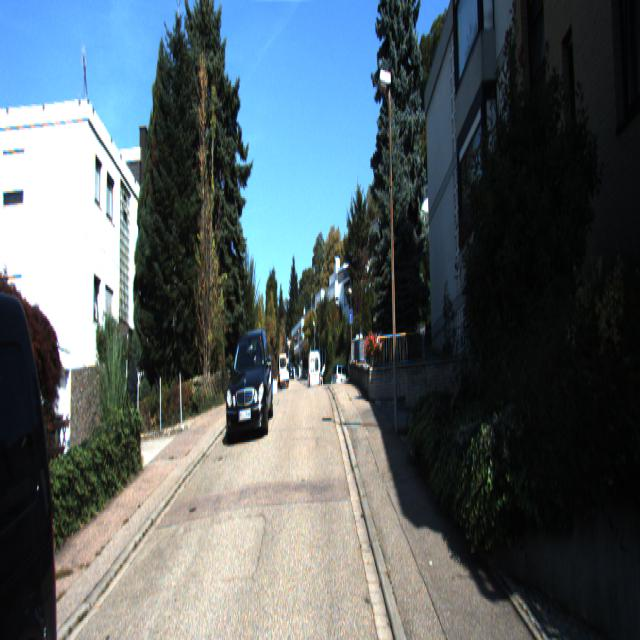Car: (0, 287, 76, 638), (224, 322, 274, 440), (308, 350, 321, 399)
